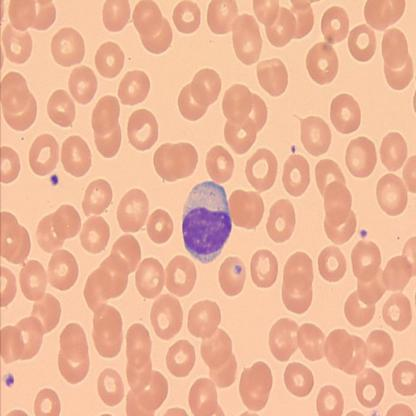Atypical lymphocyte: (181, 180, 234, 264)
